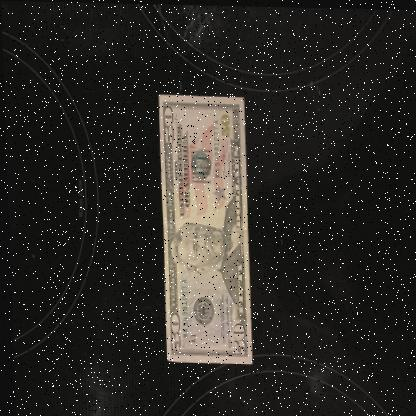fifty-front: (155, 93, 251, 363)
